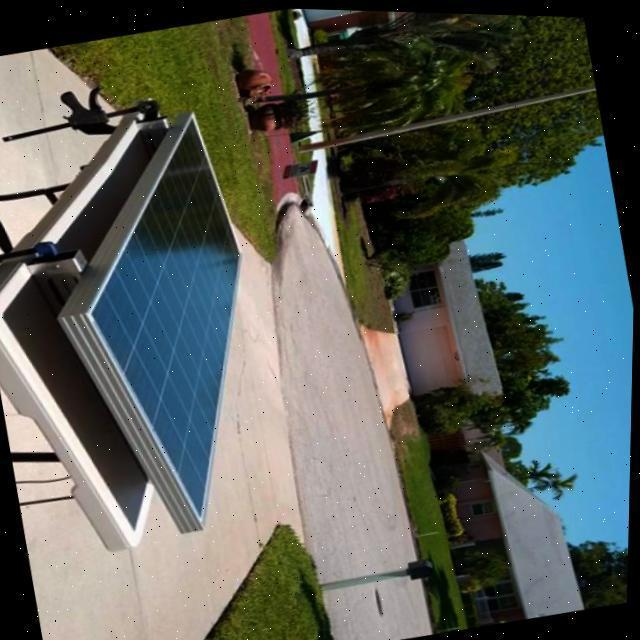Normal Solar Panel: (49, 104, 296, 545)
